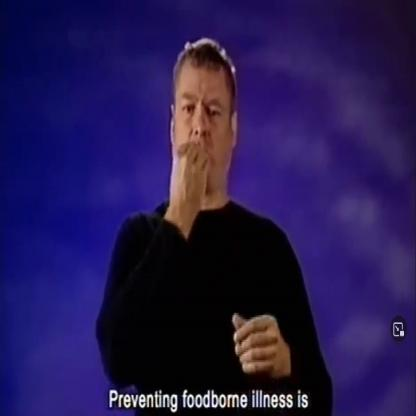Food: (155, 38, 241, 218)
